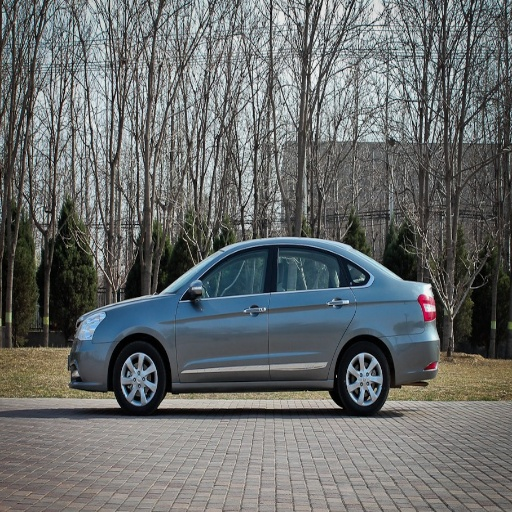back_left_door: (270, 245, 355, 377)
front_left_door: (176, 245, 271, 379)
